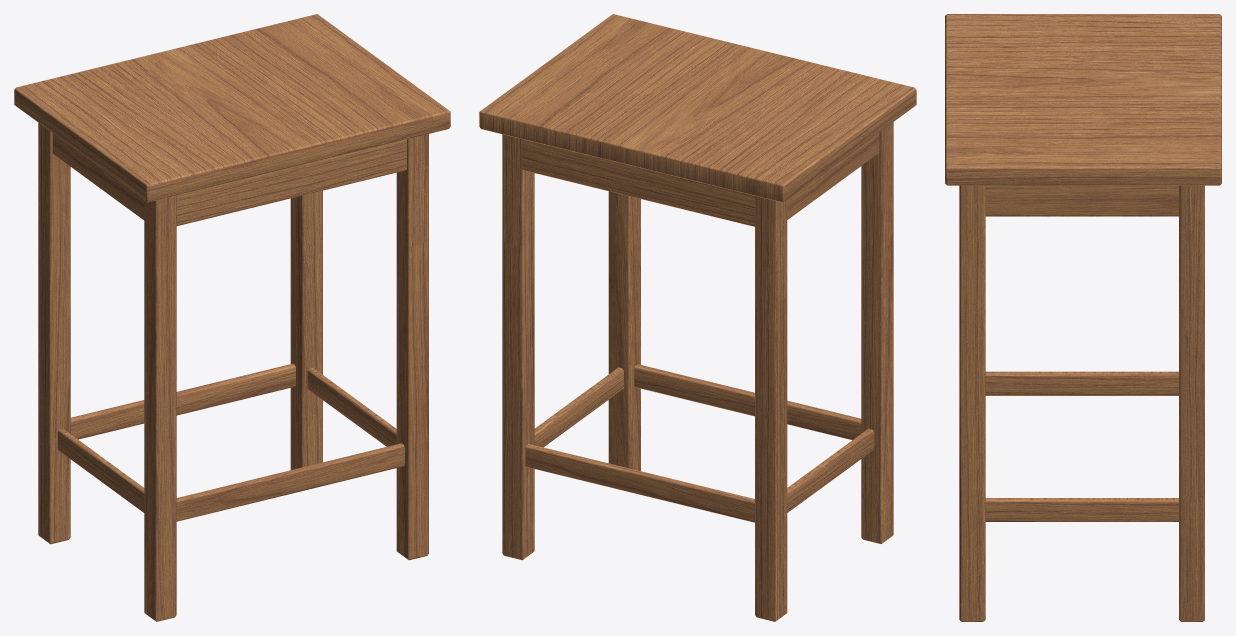
File: SM_table_04.fbx
3 views of the same model, side by side, from view 1: azimuth 30°, elevation 25°; view 2: azimuth 150°, elevation 25°; view 3: azimuth 270°, elevation 25° (orthographic). The views are drawn at different scales.
Parts seen in each view (by area): view 1: table06; view 2: table06; view 3: table06.
Boxes of the visible parts, x1,y1,x2,y2 form: table06: (14,14,450,621); table06: (479,14,916,621); table06: (945,14,1221,621).
Bounding box in the file's own units: 25.5 × 35.73 × 19.36.
Materials: 1 (1 with a texture image).
